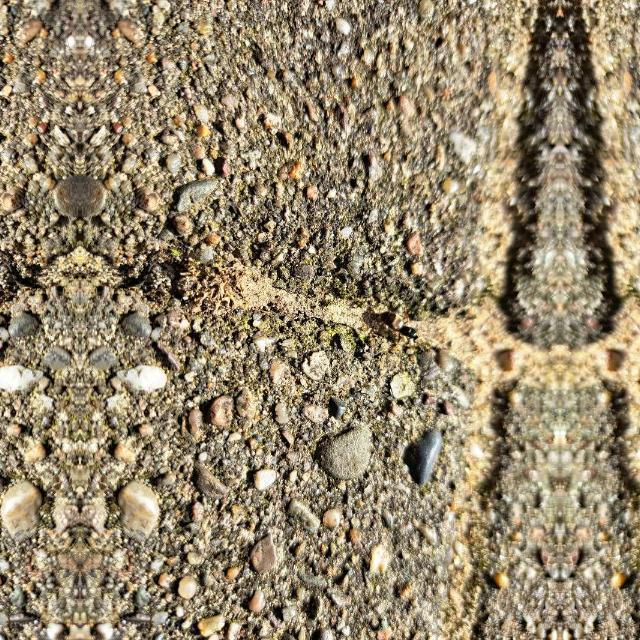Lasius: (380, 308, 422, 348)
